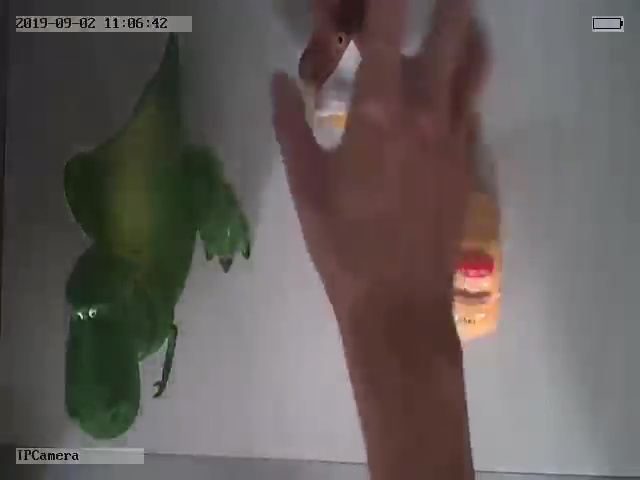rex: (63, 59, 252, 439)
